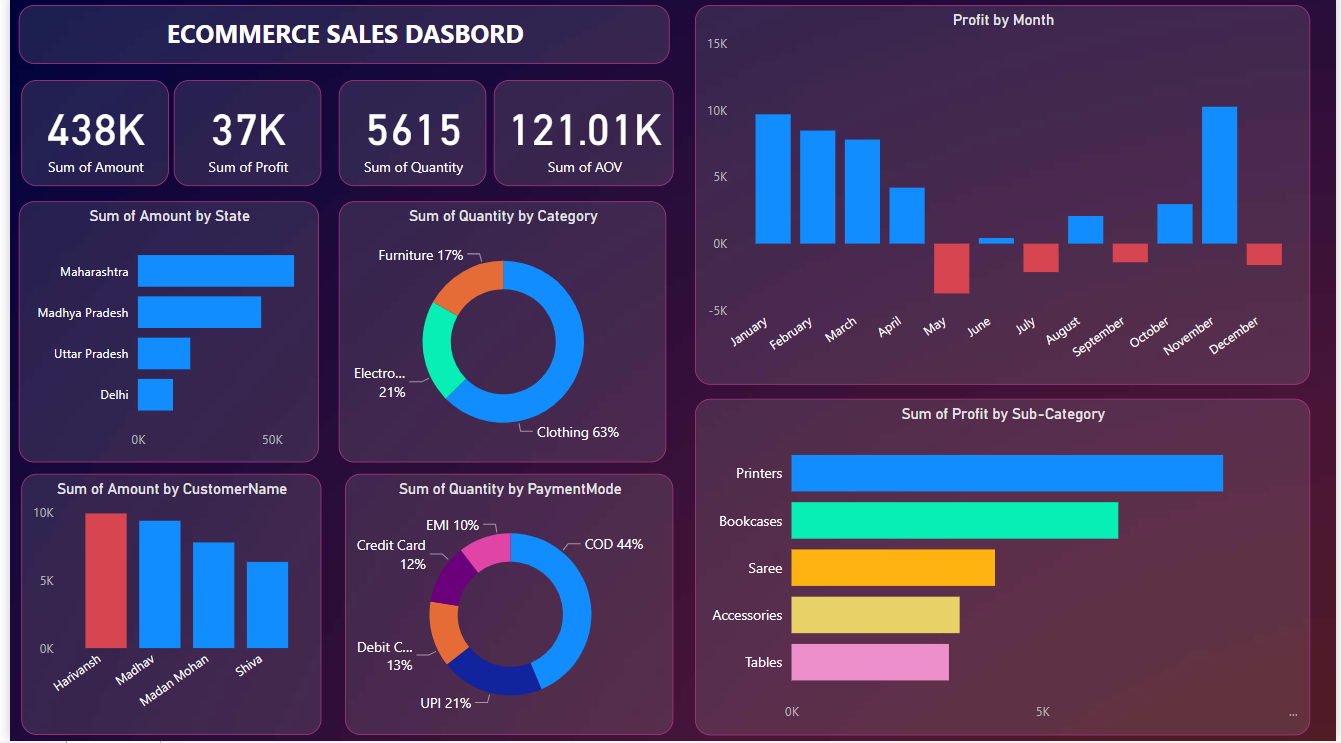

This screenshot's page, from the dashboard's own definition file:
{"tool":"powerbi","page":{"name":"Page 1","canvas":[1280,720],"ordinal":0},"visuals":[{"type":"columnChart","title":"Profit by Month","fields":{"Y":["Details.Profit"],"Category":["Orders.Order Date.Variation.Date Hierarchy.Month"]},"box":[660.9,9.6,593.4,366.6],"z":1000},{"type":"barChart","fields":{"Category":["Details.Sub-Category"],"Y":["Details.Profit"]},"box":[660.9,389.5,593.4,324.4],"z":2000},{"type":"donutChart","fields":{"Y":["Details.Quantity"],"Category":["Details.PaymentMode"]},"box":[323.2,461.9,317.2,252.1],"z":3000},{"type":"donutChart","fields":{"Category":["Details.Category"],"Y":["Details.Quantity"]},"box":[317.2,199,316,252.1],"z":4000},{"type":"card","fields":{"Values":["Details.Amount"]},"box":[10.9,82,142.3,102.5],"z":5000},{"type":"card","fields":{"Values":["Details.Quantity"]},"box":[317.2,82,142.3,102.5],"z":6000},{"type":"card","fields":{"Values":["Details.Profit"]},"box":[158,82,142.3,102.5],"z":7000},{"type":"card","fields":{"Values":["Details.AOV"]},"box":[466.7,82,173.7,102.5],"z":8000},{"type":"barChart","fields":{"Category":["Orders.State"],"Y":["Details.Amount"]},"box":[8.4,199,289.4,252.1],"z":9000},{"type":"columnChart","fields":{"Category":["Orders.CustomerName"],"Y":["Details.Amount"]},"box":[10.9,461.9,289.4,252.1],"z":10000},{"type":"textbox","box":[8.4,9.6,628.3,56.7],"z":10001}]}

Visuals, with their boxes in screenshot pixels (x1, y1, x2, y2), scaled from the page's 1280x720 canvas onto the 1341x743 screenshot:
"Profit by Month" columnChart: l=692, t=10, r=1314, b=388
barChart - Details.Sub-Category x Details.Profit: l=692, t=402, r=1314, b=737
donutChart - Details.Quantity x Details.PaymentMode: l=339, t=477, r=671, b=737
donutChart - Details.Category x Details.Quantity: l=332, t=205, r=663, b=466
card - Details.Amount: l=11, t=85, r=161, b=190
card - Details.Quantity: l=332, t=85, r=481, b=190
card - Details.Profit: l=166, t=85, r=315, b=190
card - Details.AOV: l=489, t=85, r=671, b=190
barChart - Orders.State x Details.Amount: l=9, t=205, r=312, b=466
columnChart - Orders.CustomerName x Details.Amount: l=11, t=477, r=315, b=737
textbox: l=9, t=10, r=667, b=68
